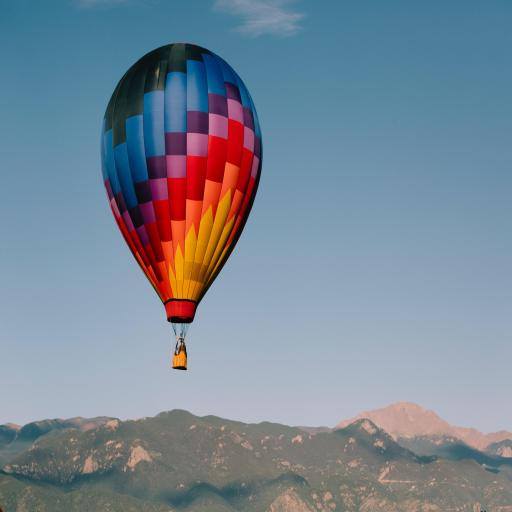hot air ballon: (98, 42, 264, 371)
